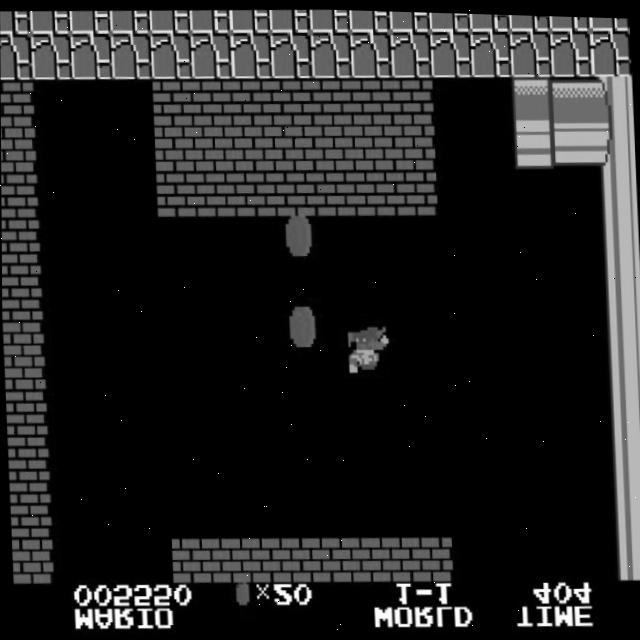1- brick_block: (274, 167, 318, 214), (314, 167, 358, 214), (354, 166, 398, 213), (394, 166, 438, 213), (170, 533, 213, 581), (153, 122, 196, 170), (151, 77, 194, 125), (210, 533, 253, 581), (193, 121, 236, 169), (191, 76, 234, 124), (250, 533, 293, 581), (233, 121, 276, 169), (231, 75, 274, 123), (290, 532, 333, 580), (273, 121, 316, 169), (271, 75, 314, 123), (330, 532, 373, 580), (313, 120, 356, 168), (311, 75, 354, 123), (370, 532, 413, 580), (353, 120, 396, 168), (351, 74, 394, 122), (410, 531, 453, 579), (393, 119, 436, 167), (391, 74, 434, 122), (8, 491, 51, 538), (155, 169, 198, 216), (195, 168, 238, 215), (235, 167, 278, 214), (10, 536, 52, 584), (5, 399, 47, 447), (3, 353, 45, 401), (7, 445, 49, 492), (2, 308, 43, 355), (2, 262, 41, 310), (1, 216, 40, 264), (1, 171, 37, 218), (1, 125, 36, 172), (0, 79, 34, 127)
11- little_mario: (344, 323, 389, 373)
14- pipe: (590, 72, 634, 120), (553, 117, 596, 165), (551, 72, 594, 120), (597, 255, 640, 303), (596, 209, 639, 257), (594, 164, 637, 211), (592, 118, 635, 165), (600, 301, 640, 348), (601, 346, 640, 394), (603, 392, 640, 440), (604, 438, 640, 485), (607, 484, 640, 531), (609, 529, 640, 577)
15- pipe_head: (513, 118, 556, 166), (511, 72, 554, 120)
17- undestructible_block: (29, 32, 72, 80), (69, 32, 112, 80), (109, 31, 152, 79), (149, 30, 192, 78), (189, 30, 232, 78), (229, 30, 272, 78), (269, 29, 312, 77), (309, 29, 352, 77), (349, 28, 392, 76), (389, 28, 432, 76), (429, 27, 472, 75), (469, 27, 512, 75), (509, 26, 552, 74), (549, 26, 592, 74), (589, 26, 632, 74), (0, 33, 31, 81), (29, 10, 71, 35), (69, 9, 111, 34), (109, 9, 151, 34), (149, 8, 191, 33), (189, 7, 231, 32), (229, 7, 271, 32), (268, 7, 310, 32), (308, 7, 350, 31), (348, 8, 390, 30), (388, 9, 430, 30), (428, 10, 470, 30), (468, 11, 510, 29), (0, 11, 30, 35), (508, 12, 550, 29), (548, 13, 590, 28), (587, 14, 629, 28)
2- coin: (280, 303, 324, 351), (277, 212, 320, 260)
